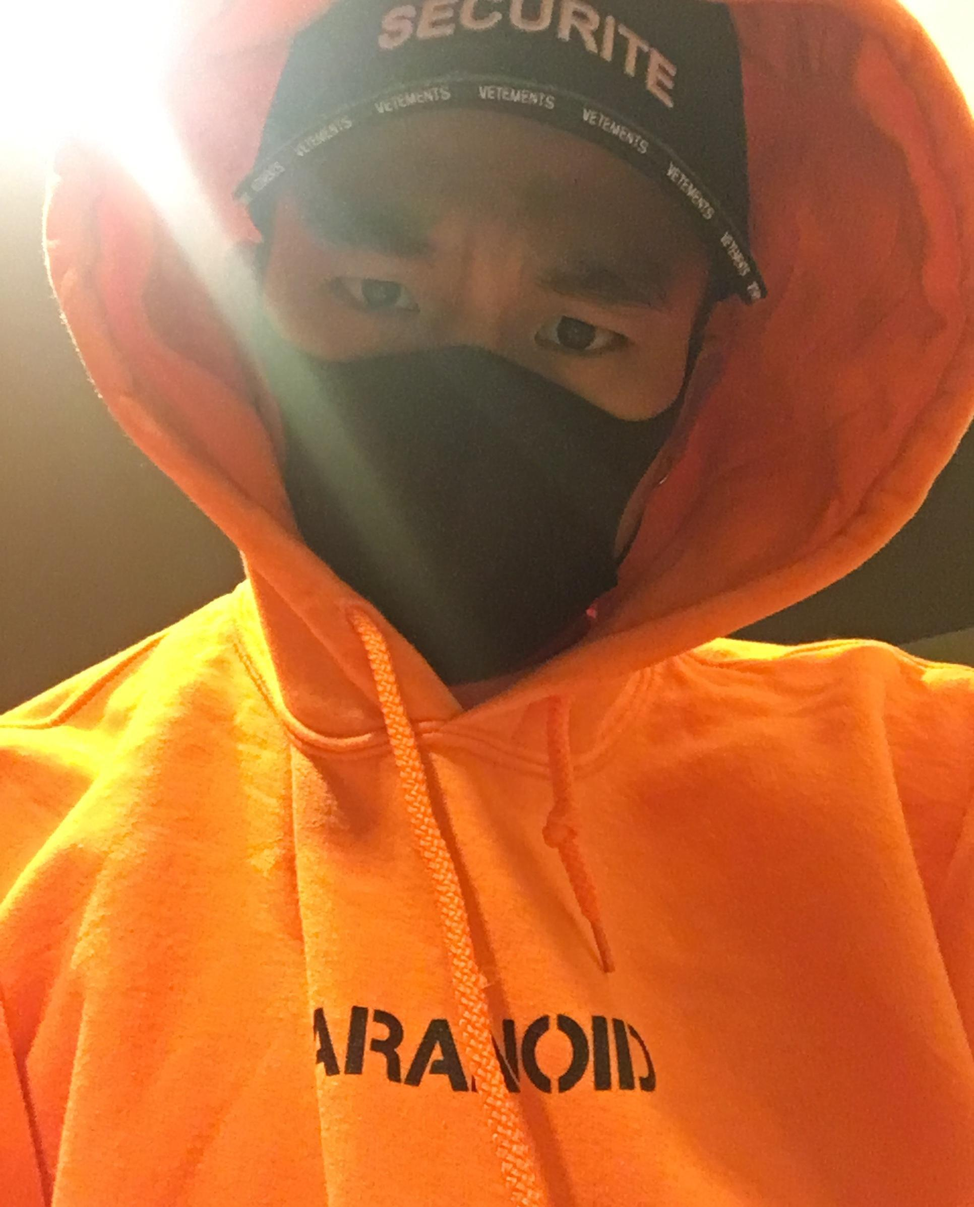OK: (240, 195, 683, 653)
